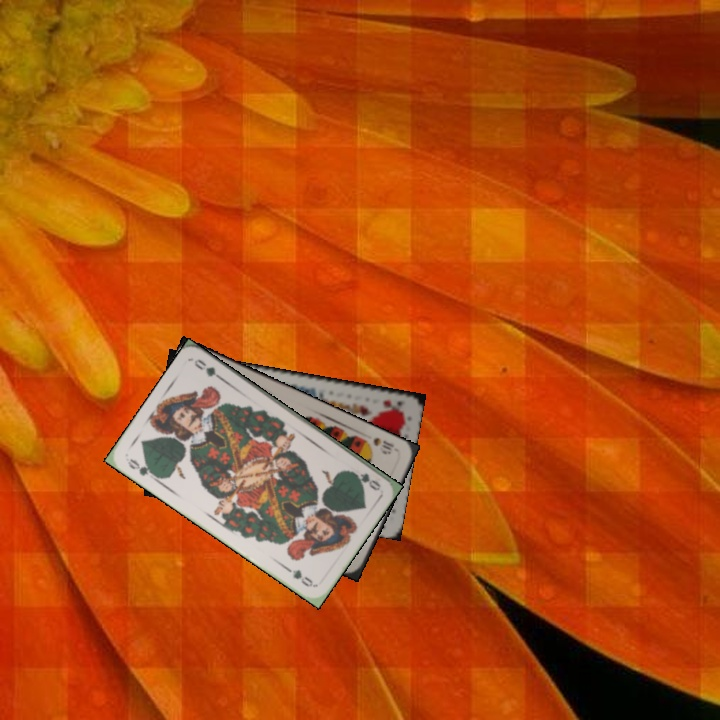GO: (124, 454, 160, 483), (345, 467, 383, 493)
HK: (378, 395, 404, 410)
S10: (369, 433, 397, 457)
